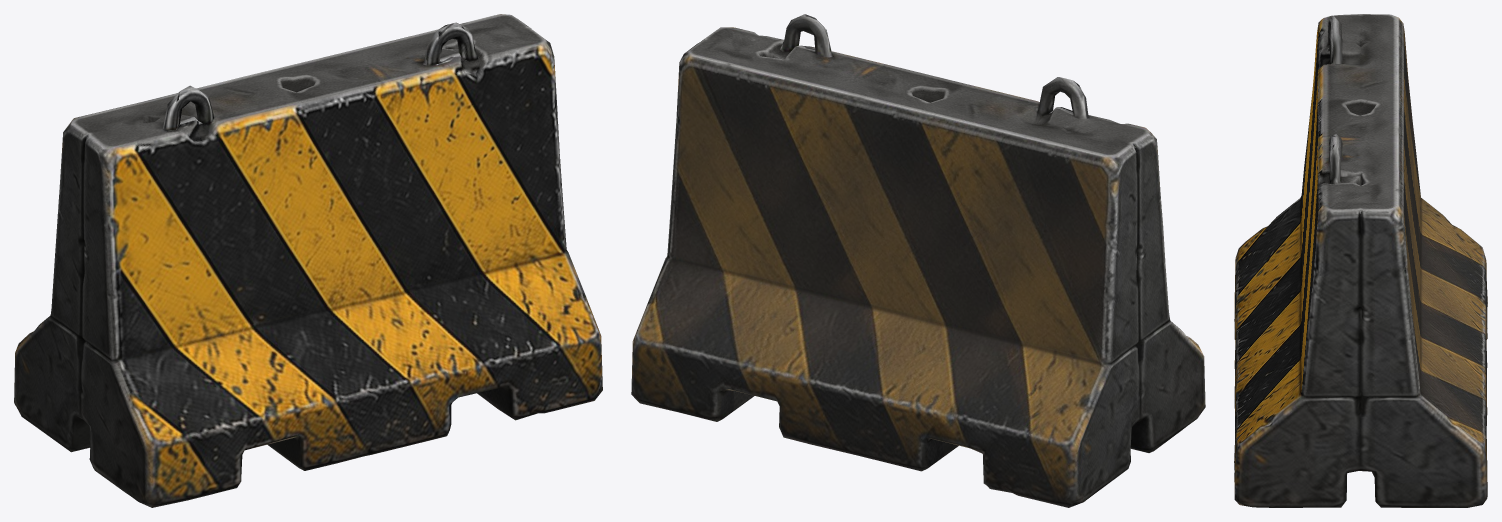
Rendered from kw_barrier.glb.
3 views of the same model, side by side, from view 1: azimuth 30°, elevation 25°; view 2: azimuth 150°, elevation 25°; view 3: azimuth 270°, elevation 25° (orthographic). The views are drawn at different scales.
Parts seen in each view (by area): view 1: frame; view 2: frame; view 3: frame.
Boxes of the visible parts, x1,y1,x2,y2 form: frame: (14,14,602,507); frame: (631,14,1205,507); frame: (1234,14,1487,507).
Size of the model in its own units: 2 by 1.52 by 1.06.
Materials: 1 (1 with a texture image).
